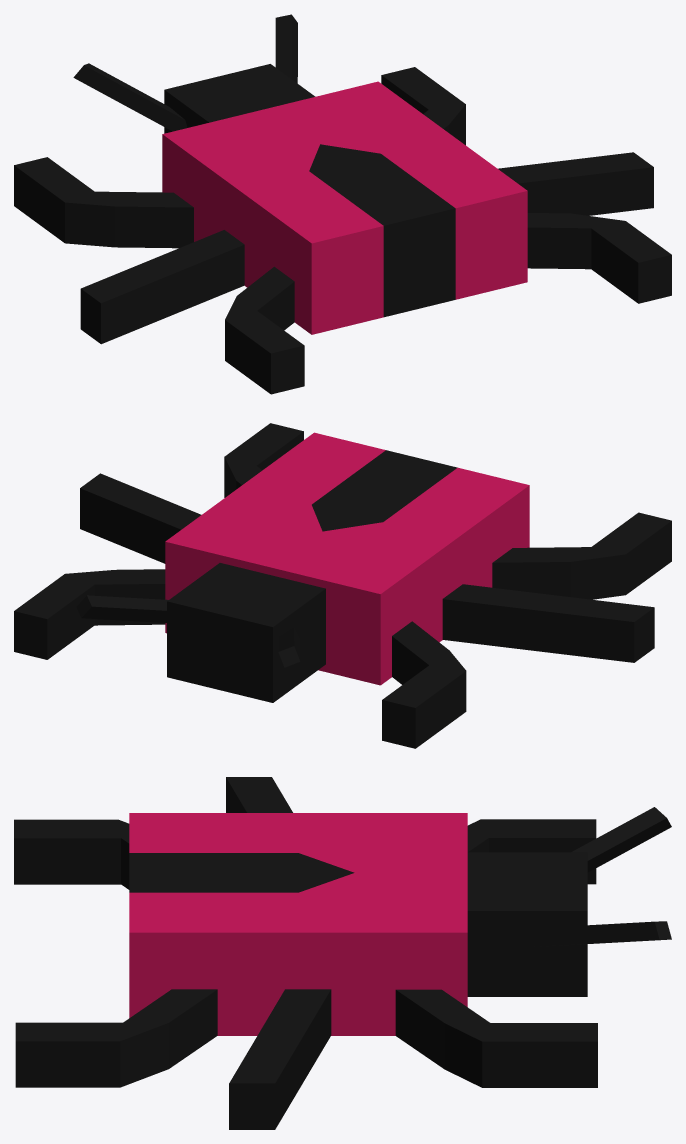
The model's file is bug.fbx.
The picture shows the model from 3 angles, top to bottom: view 1: azimuth 30°, elevation 25°; view 2: azimuth 150°, elevation 25°; view 3: azimuth 270°, elevation 25°; orthographic projection. The views are drawn at different scales.
Parts seen in each view (by area): view 1: Cube; view 2: Cube; view 3: Cube.
Boxes of the visible parts, bbox=[...] form: Cube: bbox=[14, 14, 671, 394]; Cube: bbox=[14, 423, 671, 748]; Cube: bbox=[14, 777, 671, 1129].
Bounding box in the file's own units: 515 × 87.92 × 467.
